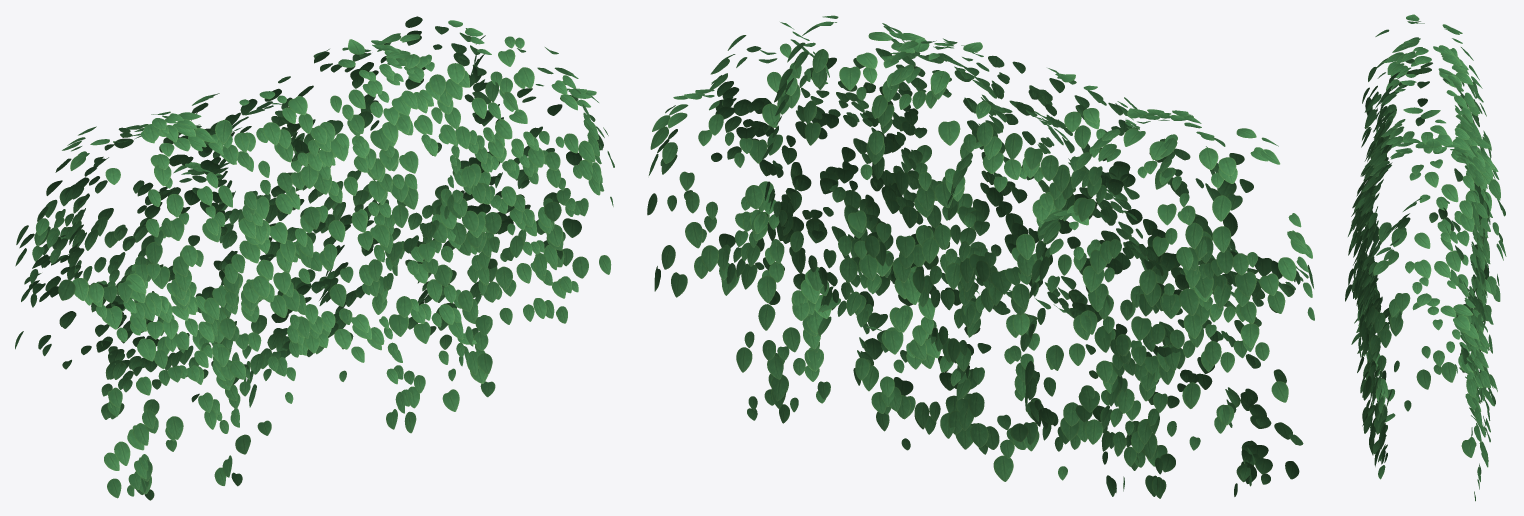
File: ivy_smallCliff.fbx
The picture shows the model from 3 angles, left to right: view 1: azimuth 30°, elevation 25°; view 2: azimuth 150°, elevation 25°; view 3: azimuth 270°, elevation 25°; orthographic projection. The views are drawn at different scales.
Visible parts, largest first — view 1: cliffIvy; view 2: cliffIvy; view 3: cliffIvy.
Boxes of the visible parts, left/top/right/bottom form: cliffIvy: left=15, top=16, right=614, bottom=500; cliffIvy: left=647, top=15, right=1314, bottom=498; cliffIvy: left=1345, top=14, right=1506, bottom=501.
Bounding box in the file's own units: 922 × 591 × 249.
